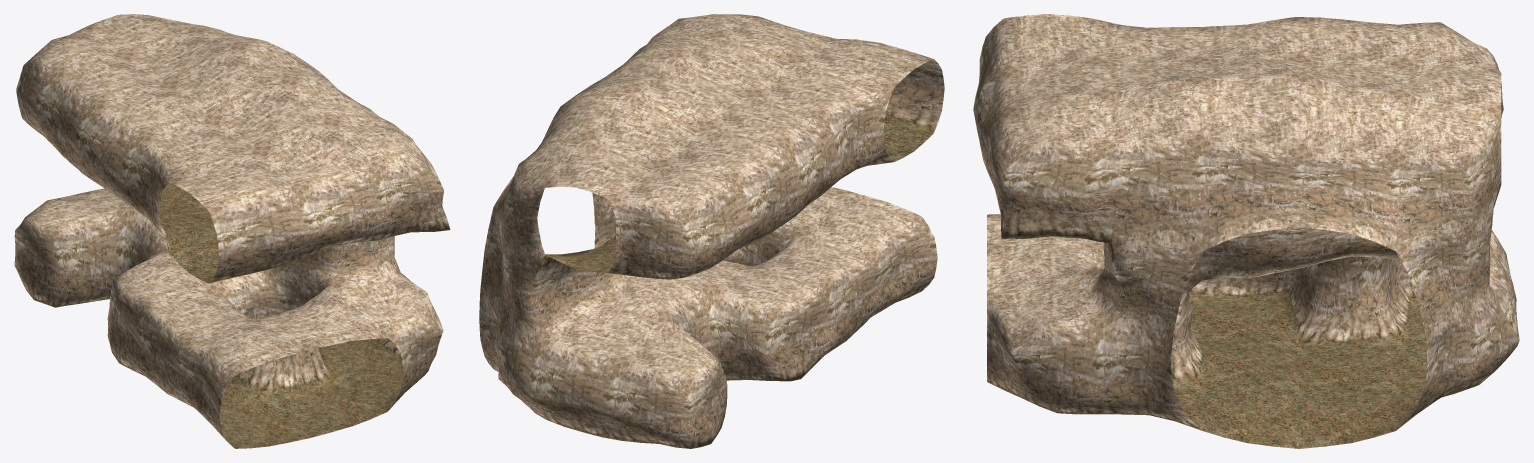
Rendered from thm_all_cave_s03_mirror_r5_mesh_r5.fbx.
3 renders of one model, left to right at view 1: azimuth 30°, elevation 25°; view 2: azimuth 150°, elevation 25°; view 3: azimuth 270°, elevation 25°, orthographic. The views are drawn at different scales.
Parts seen in each view (by area): view 1: mesh_node; view 2: mesh_node; view 3: mesh_node.
Boxes of the visible parts, x1=… form: mesh_node: x1=14, y1=14, x2=450, y2=448; mesh_node: x1=479, y1=14, x2=944, y2=448; mesh_node: x1=973, y1=14, x2=1519, y2=448.
Bounding box in the file's own units: 26.95 × 28.15 × 43.27.
